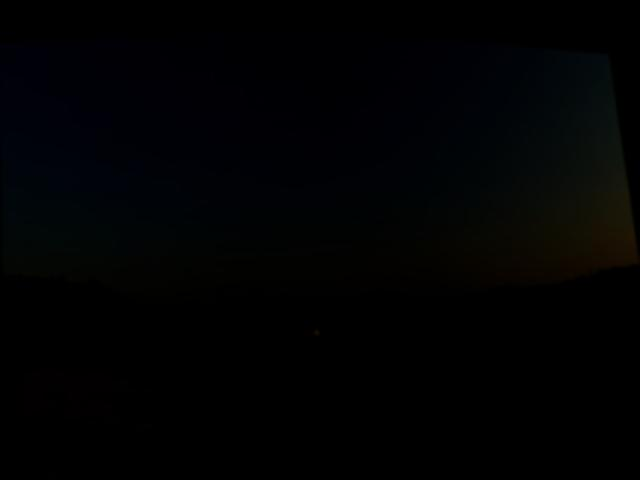uav: (275, 299, 355, 349)
